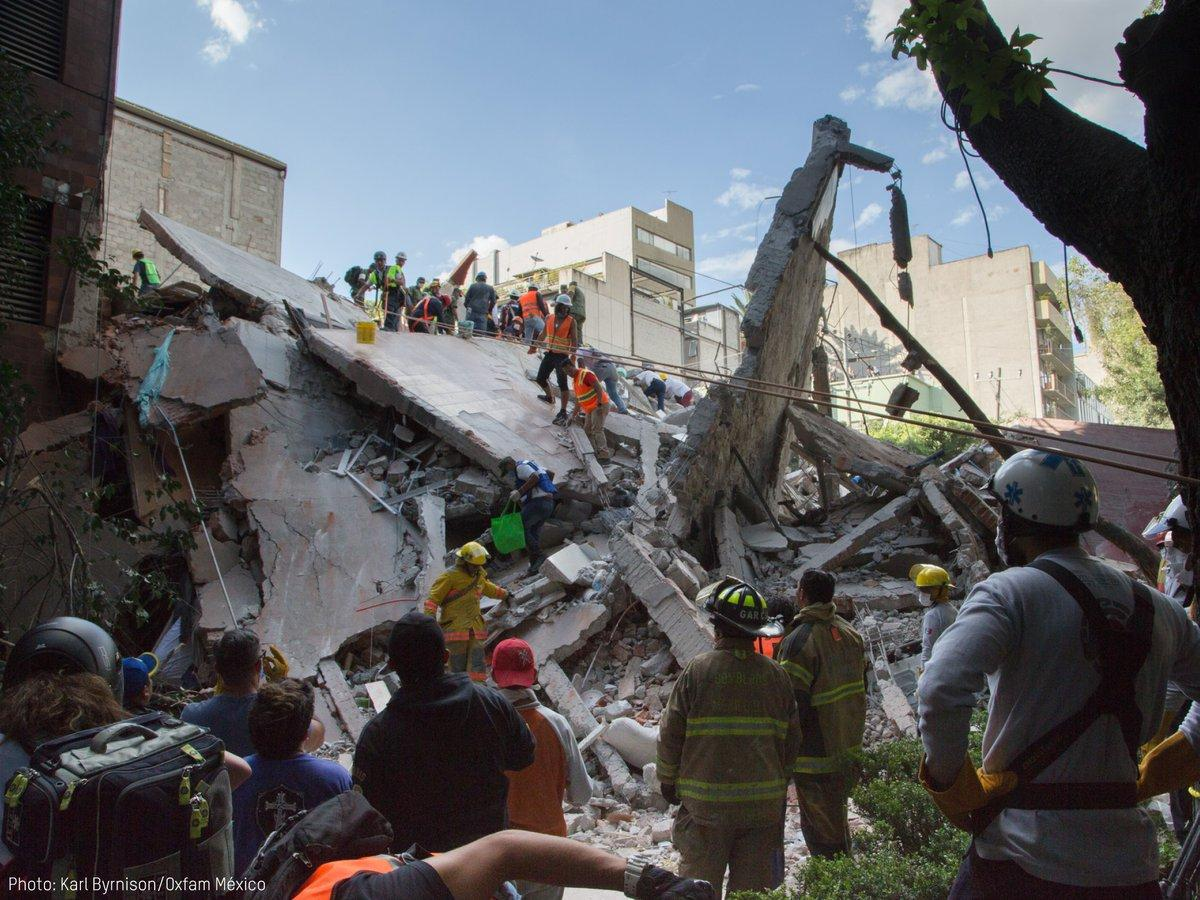destroyed: (81, 160, 1174, 708)
